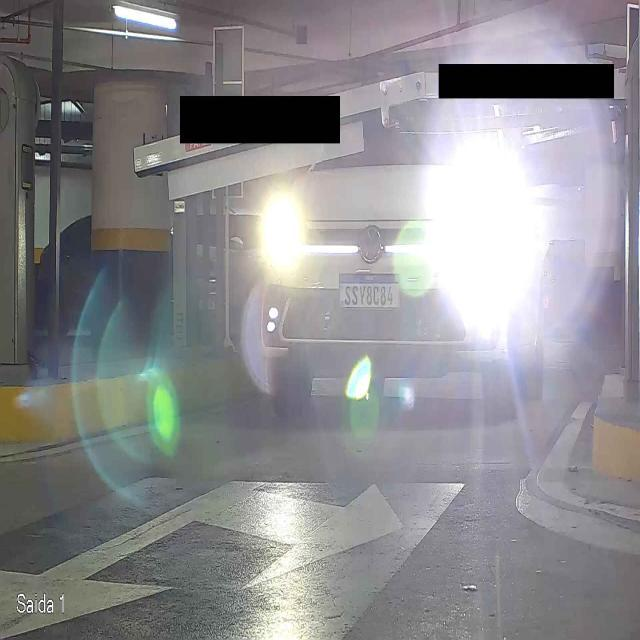mercosul_plate: (338, 271, 401, 310)
